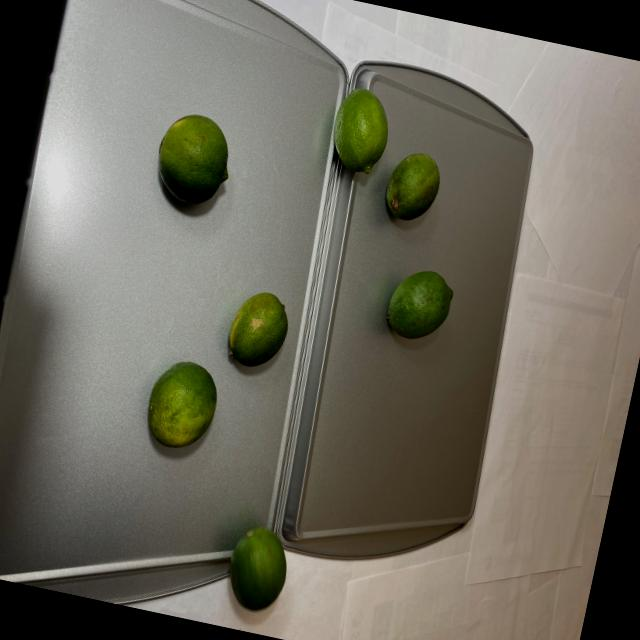lemon: (62, 105, 374, 615), (282, 83, 490, 352)
